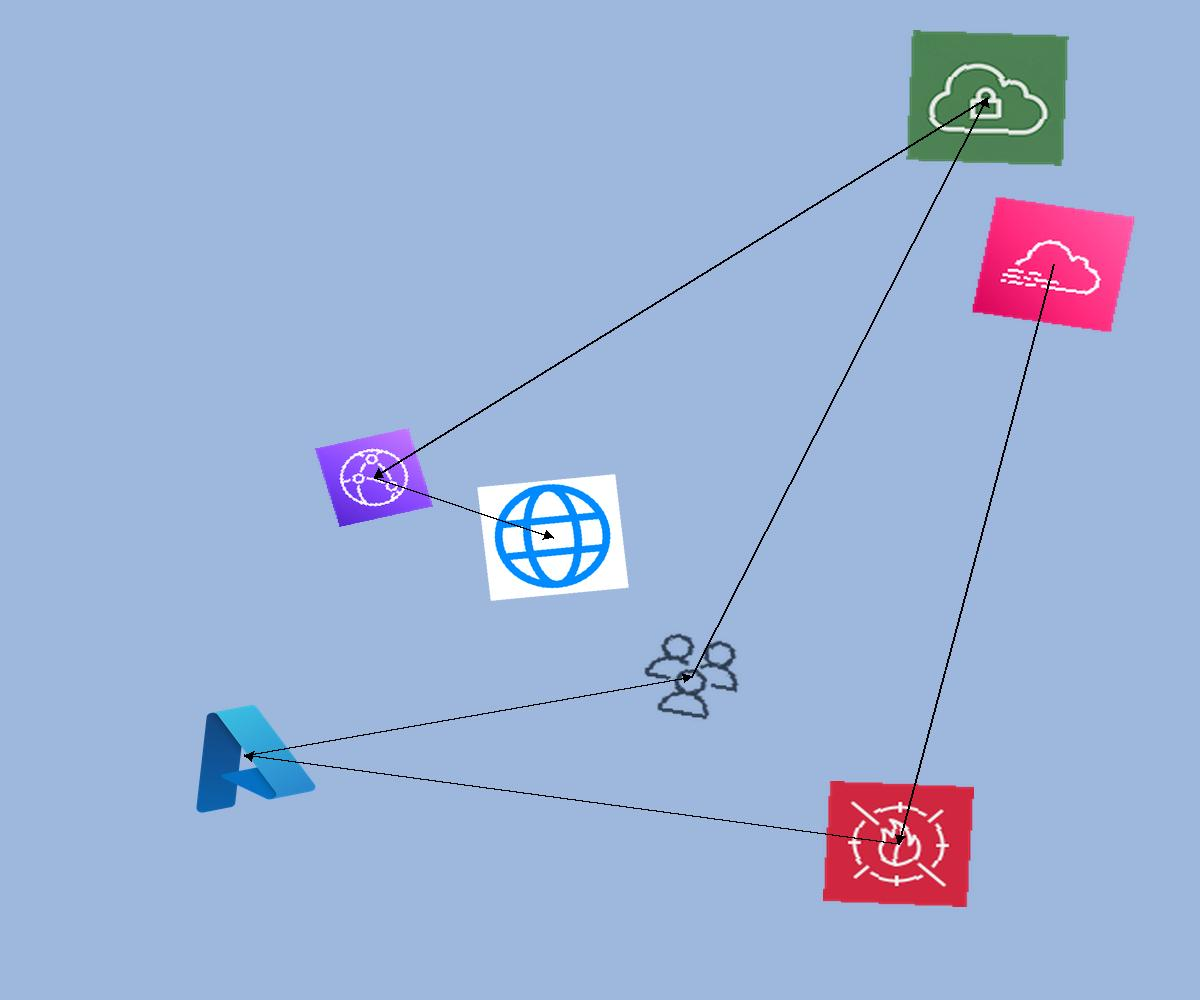AWS-CloudFront: (315, 428, 433, 527)
AWS-CloudTrail: (971, 196, 1136, 333)
AWS-Private_vpc: (906, 30, 1069, 166)
AWS-Res_Users: (630, 625, 754, 728)
AWS-WAF: (823, 781, 974, 907)
Azure_http: (477, 474, 629, 601)
Azure_services: (164, 689, 324, 822)
